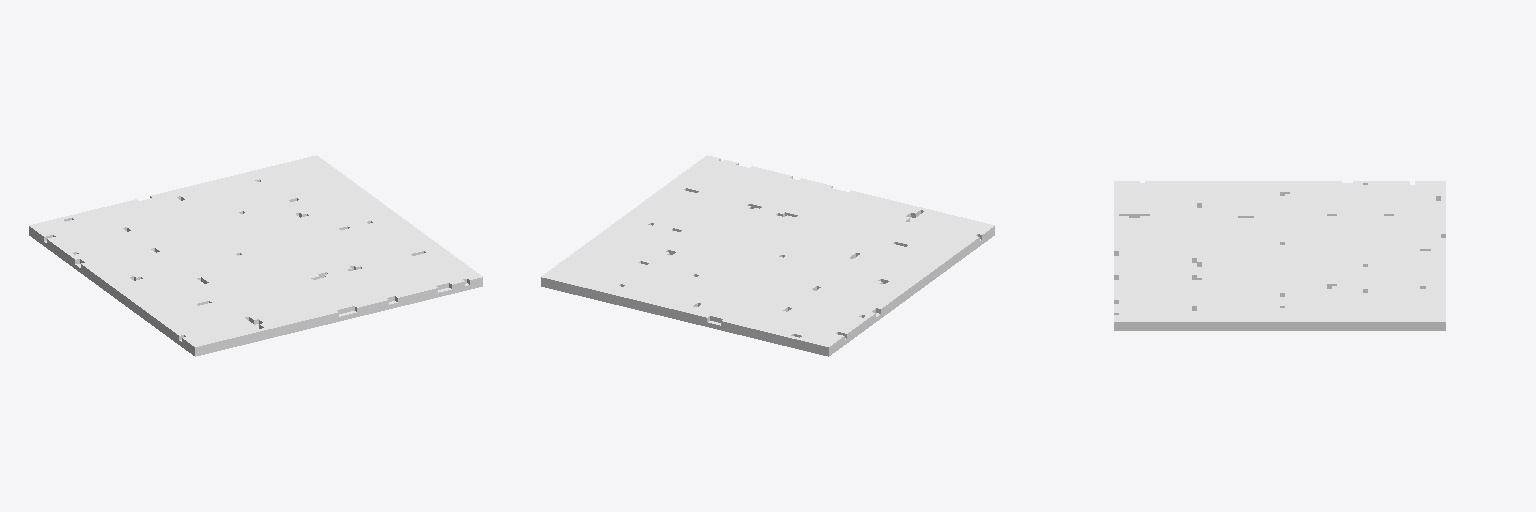
Rendered from Tutorialmap_V2_unfinished-14.obj.
The picture shows the model from 3 angles: view 1: azimuth 30°, elevation 25°; view 2: azimuth 150°, elevation 25°; view 3: azimuth 270°, elevation 25°; orthographic projection.
Visible parts, largest first — view 1: object 1; view 2: object 1; view 3: object 1.
Part boxes in pixels (x1,y1,x2,y2): object 1: (29, 155, 482, 356); object 1: (541, 155, 994, 356); object 1: (1114, 181, 1445, 330).
Size of the model in its own units: 6.4 by 0.2 by 6.4.